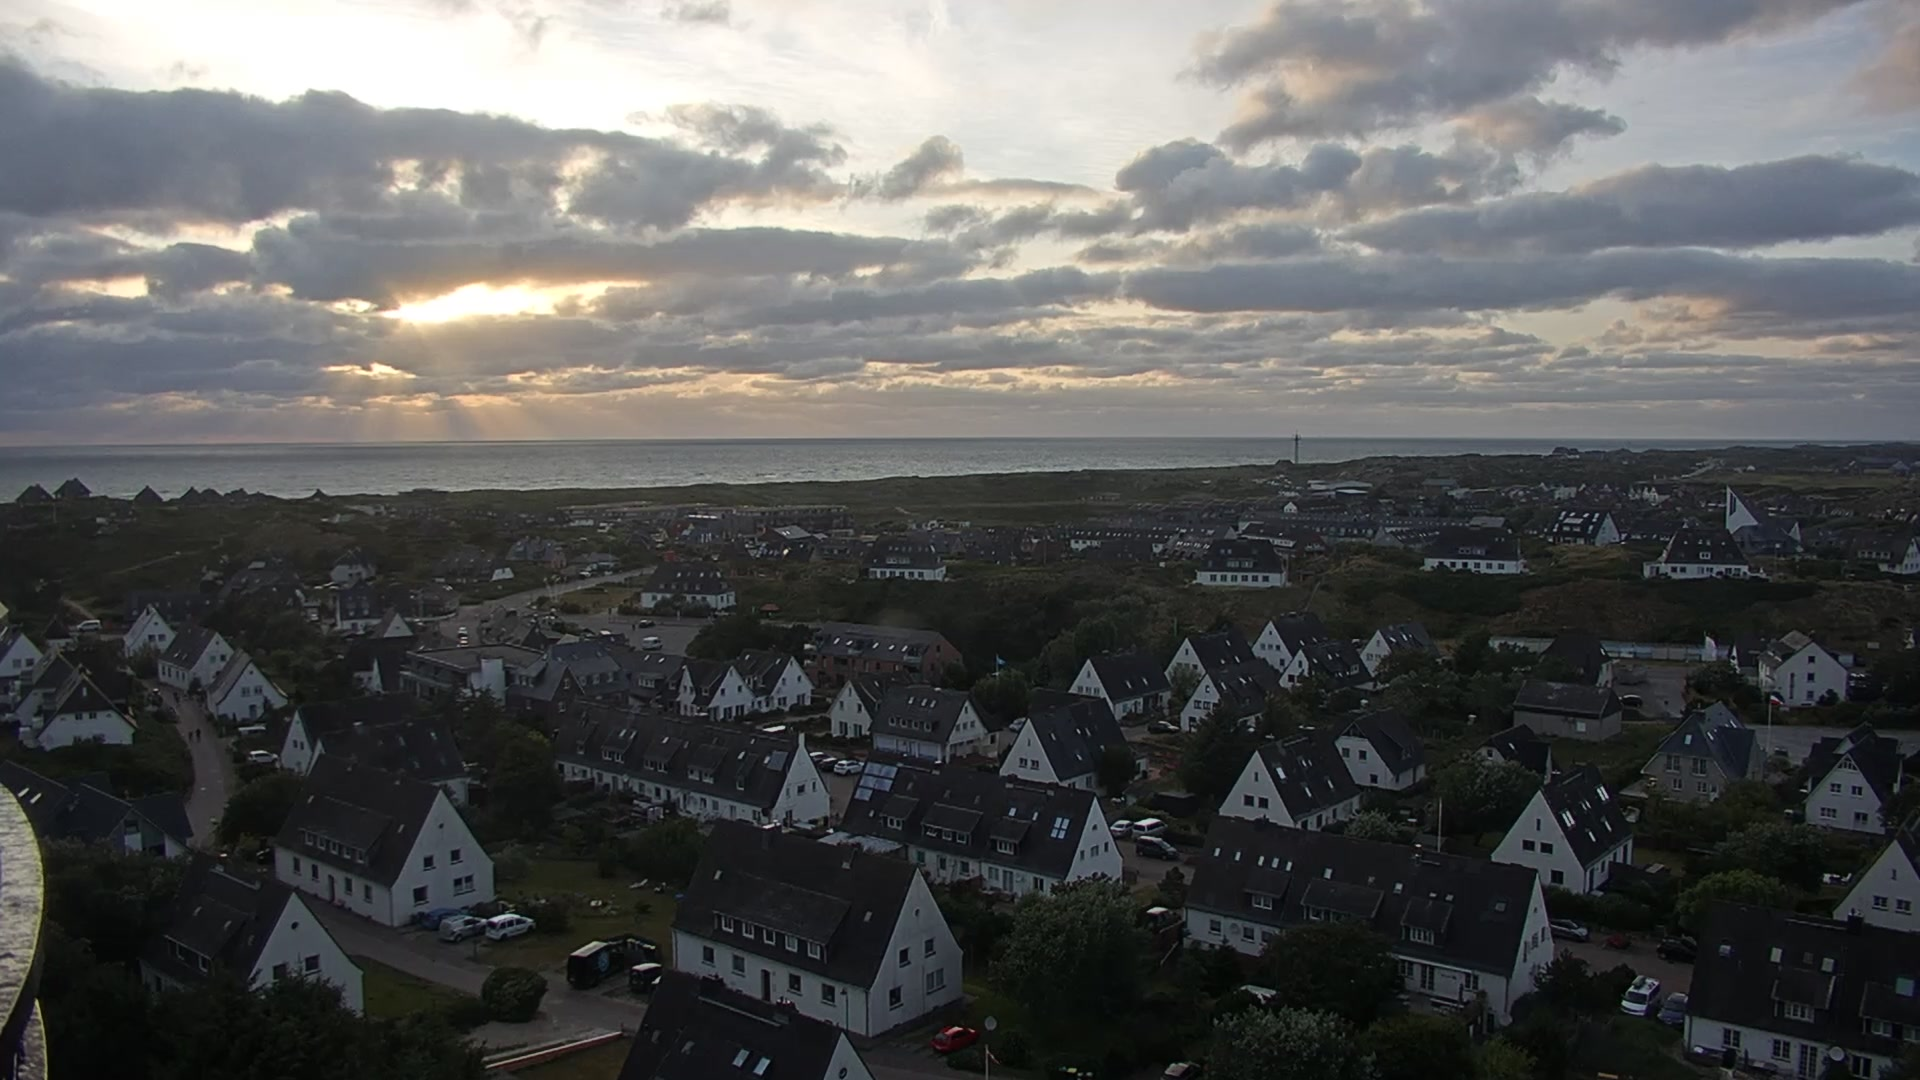human: (188, 728, 194, 741), (172, 690, 178, 700), (174, 694, 180, 705), (196, 726, 201, 741), (631, 622, 636, 631)
land: (565, 939, 624, 988), (1619, 974, 1660, 1016), (929, 1022, 979, 1053), (486, 913, 536, 940), (439, 914, 488, 942), (628, 961, 665, 995), (1654, 935, 1698, 963), (1231, 983, 1276, 1009), (1657, 989, 1689, 1026), (420, 906, 468, 930), (1135, 834, 1179, 859), (1547, 917, 1589, 942), (1144, 905, 1181, 930), (1131, 817, 1168, 840), (1161, 1060, 1200, 1079), (1107, 818, 1134, 838), (246, 748, 280, 764), (833, 759, 864, 775), (1147, 719, 1180, 733), (817, 756, 841, 772), (75, 618, 101, 631), (1007, 715, 1027, 731), (1618, 693, 1642, 707), (641, 635, 662, 650), (456, 625, 469, 648), (808, 750, 831, 763), (637, 617, 648, 628), (647, 619, 657, 627), (458, 635, 469, 640)
